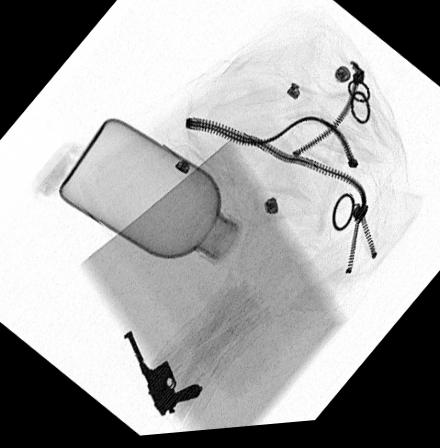Gun: (122, 330, 204, 419)
